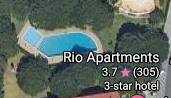pool: (36, 35, 96, 51)
